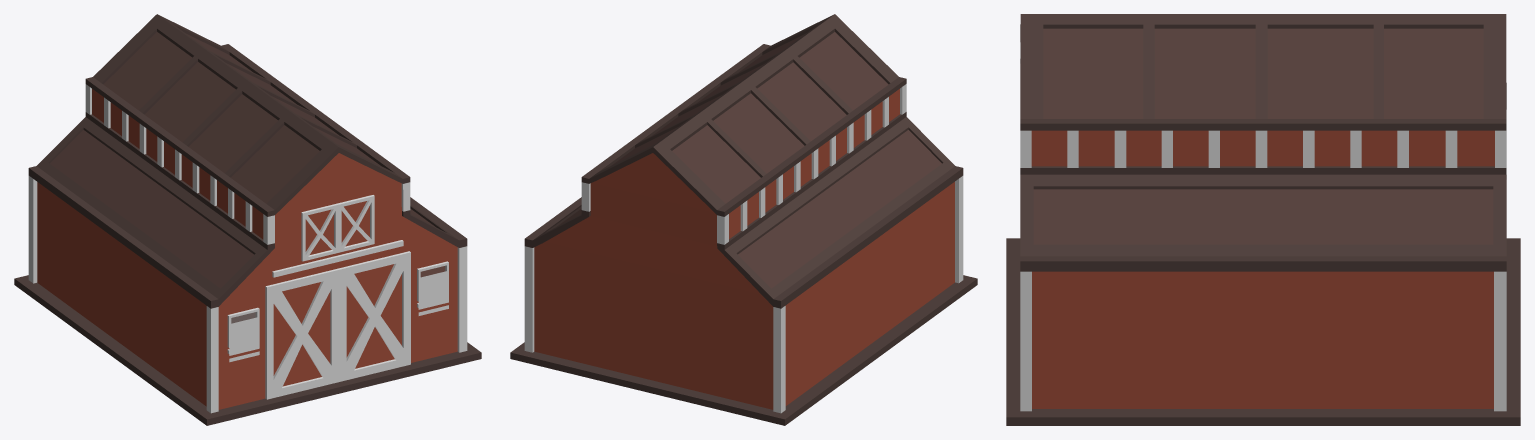
Rendered from Barn.glb.
3 renders of one model, left to right at view 1: azimuth 30°, elevation 25°; view 2: azimuth 150°, elevation 25°; view 3: azimuth 270°, elevation 25°, orthographic. The views are drawn at different scales.
Visible parts, largest first — view 1: Barn, W1, B1; view 2: Barn; view 3: Barn.
Boxes of the visible parts, bbox=[...] form: Barn: bbox=[14, 14, 481, 425]; W1: bbox=[229, 317, 259, 355]; B1: bbox=[418, 270, 448, 309]; Barn: bbox=[510, 14, 977, 425]; Barn: bbox=[1006, 14, 1520, 425].
Size of the model in its own units: 36.84 by 30.97 by 44.76.
